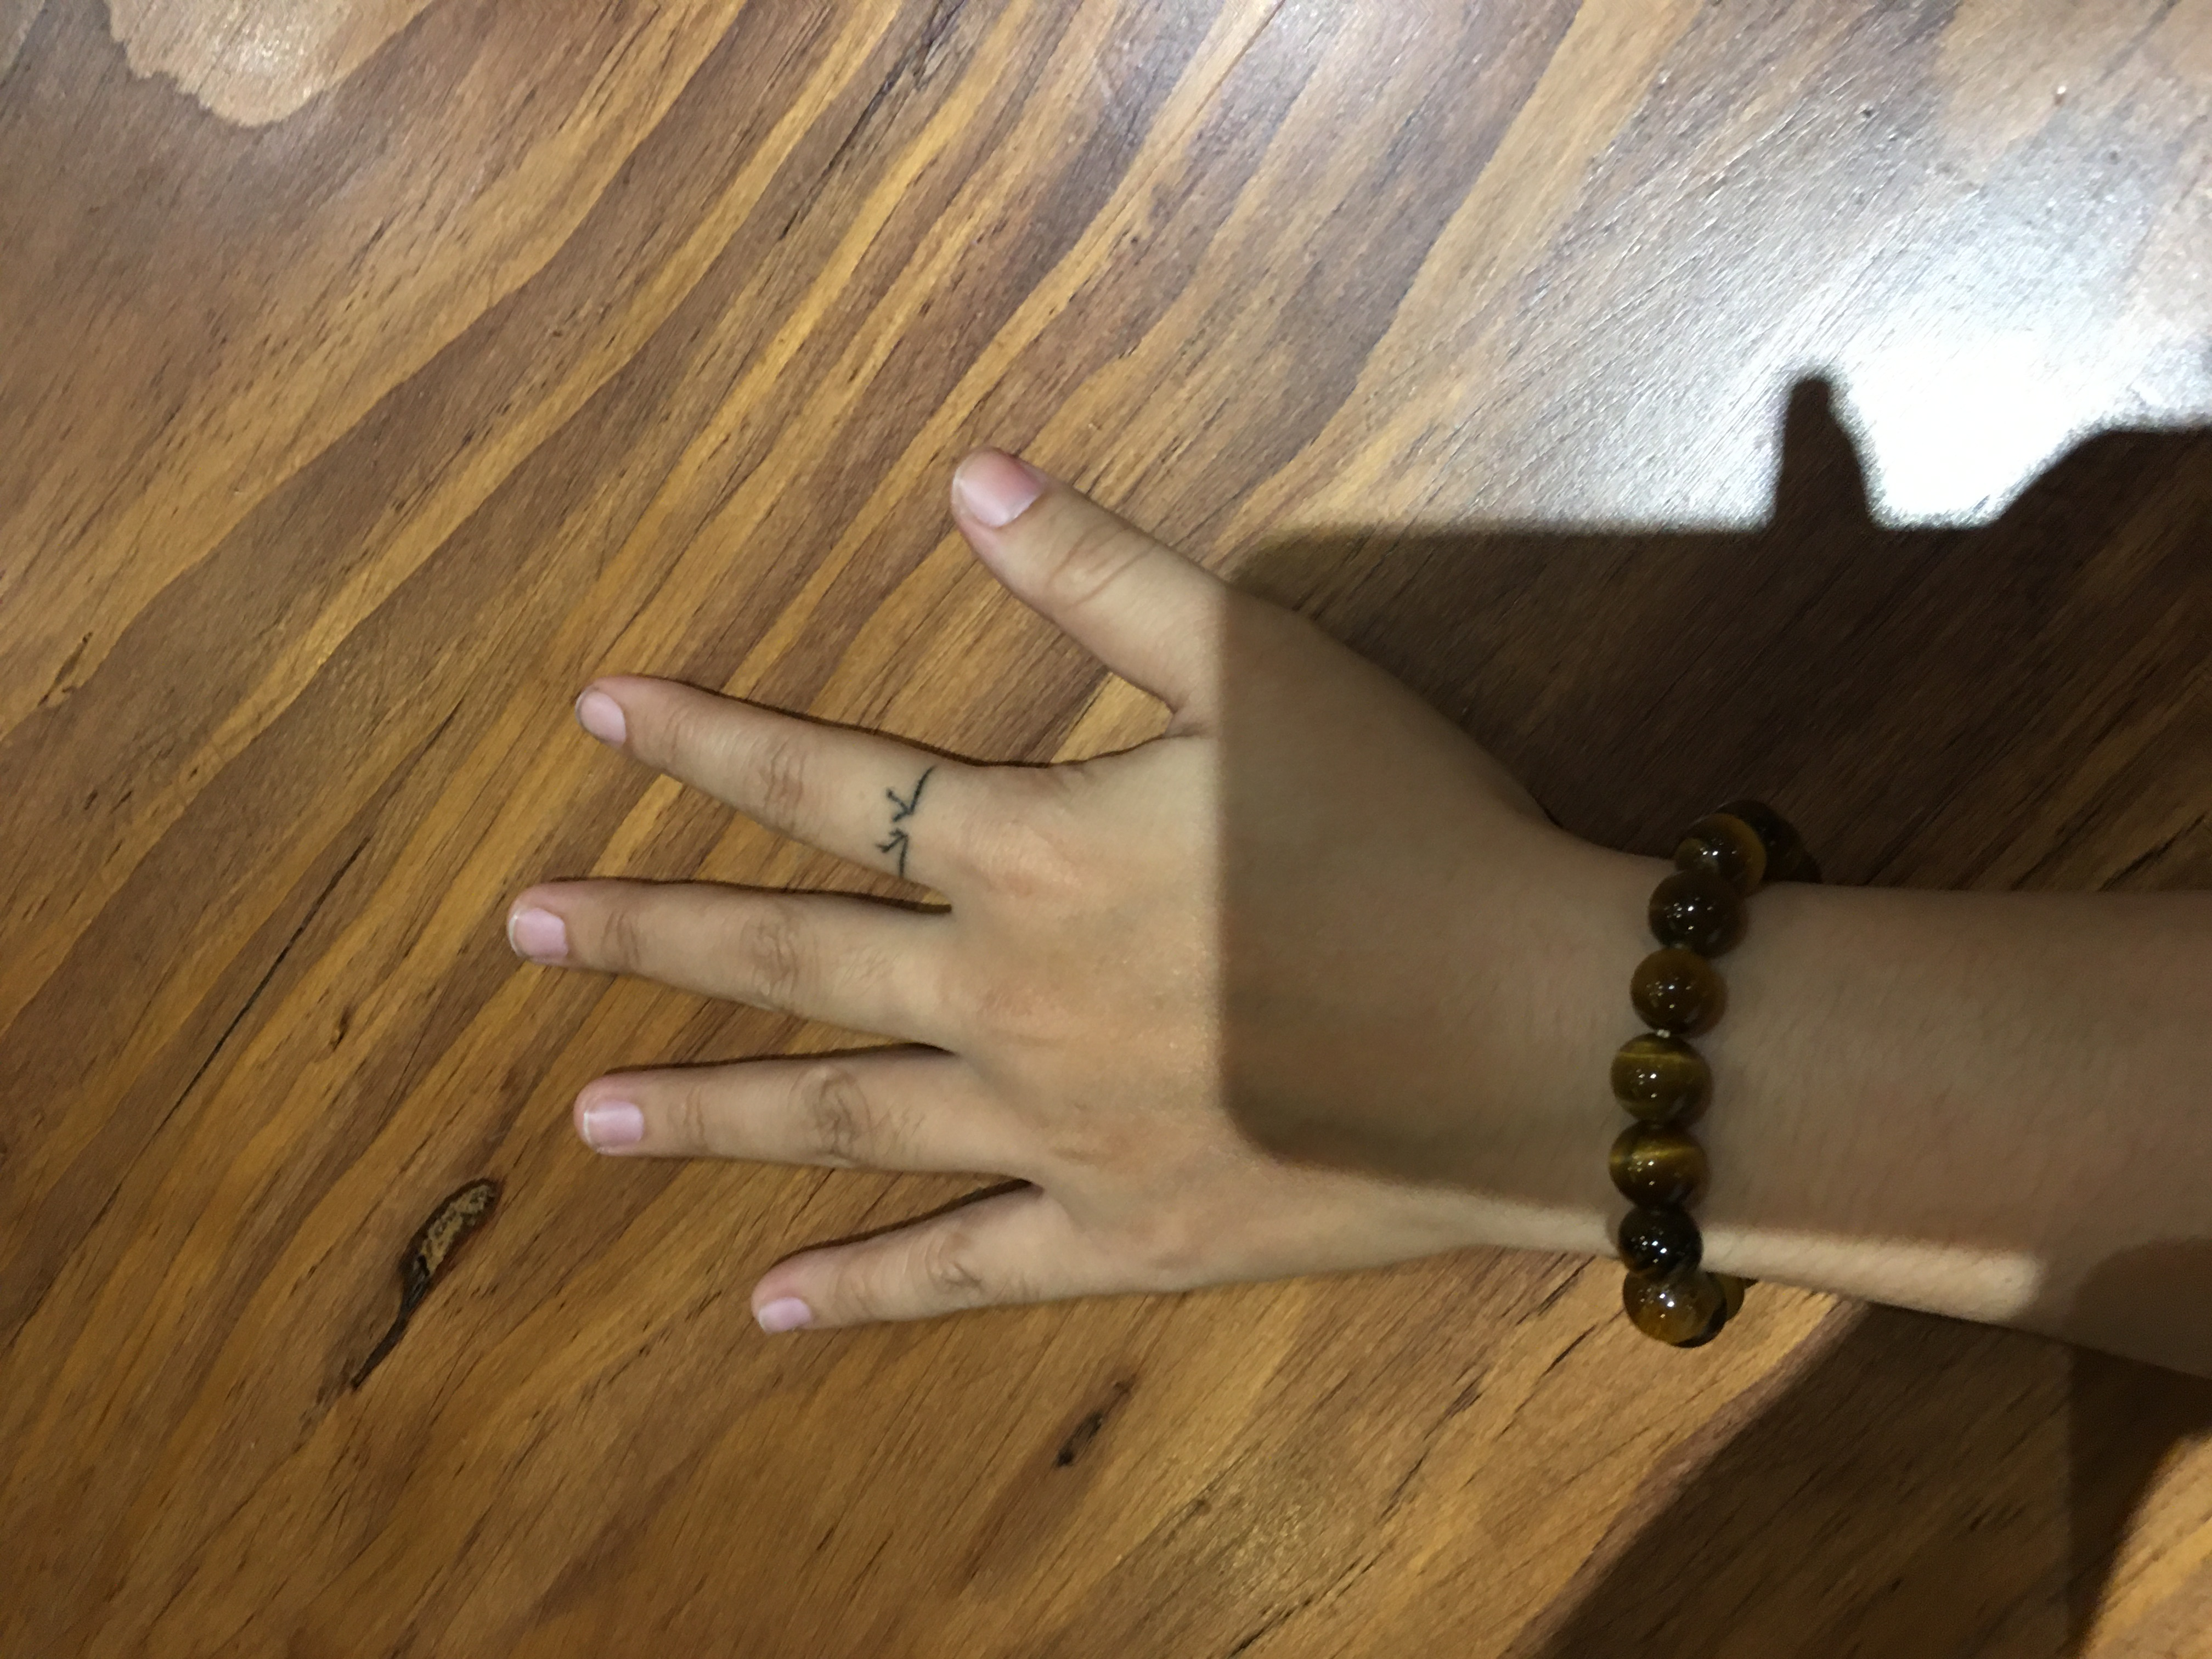nails: (946, 436, 1052, 544), (563, 678, 637, 765), (502, 890, 583, 965), (580, 1084, 650, 1166), (747, 1281, 822, 1342)
